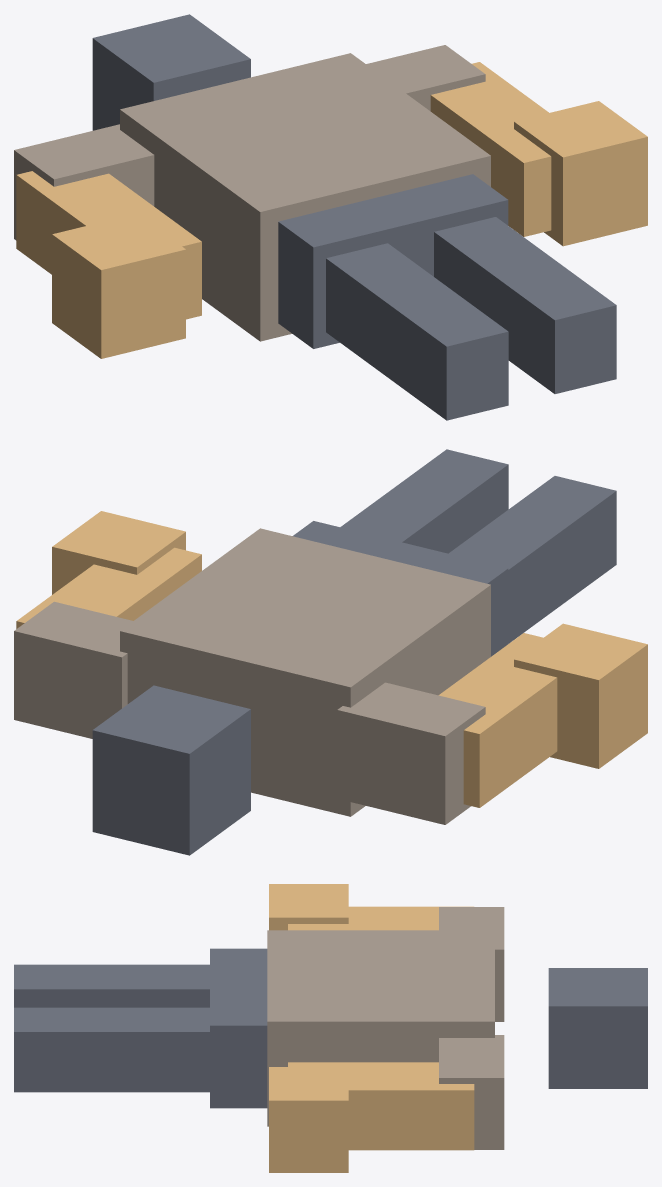
Rendered from rook-ironside_female_select.glb.
3 renders of one model, top to bottom at view 1: azimuth 30°, elevation 25°; view 2: azimuth 150°, elevation 25°; view 3: azimuth 270°, elevation 25°, orthographic. The views are drawn at different scales.
Parts seen in each view (by area): view 1: rook-ironside_female_body; view 2: rook-ironside_female_body; view 3: rook-ironside_female_body.
Boxes of the visible parts, x1,y1,x2,y2 form: rook-ironside_female_body: [14, 14, 647, 420]; rook-ironside_female_body: [14, 449, 647, 855]; rook-ironside_female_body: [14, 884, 647, 1172].
Size of the model in its own units: 1.42 by 0.3205 by 1.75.
